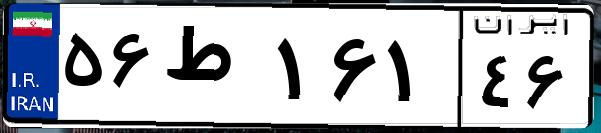1: (270, 28, 330, 110), (385, 28, 445, 110)
4: (475, 38, 525, 113)
5: (57, 26, 110, 100)
6: (330, 28, 385, 110), (525, 38, 570, 115), (110, 28, 158, 98)
ط: (158, 20, 270, 120)
